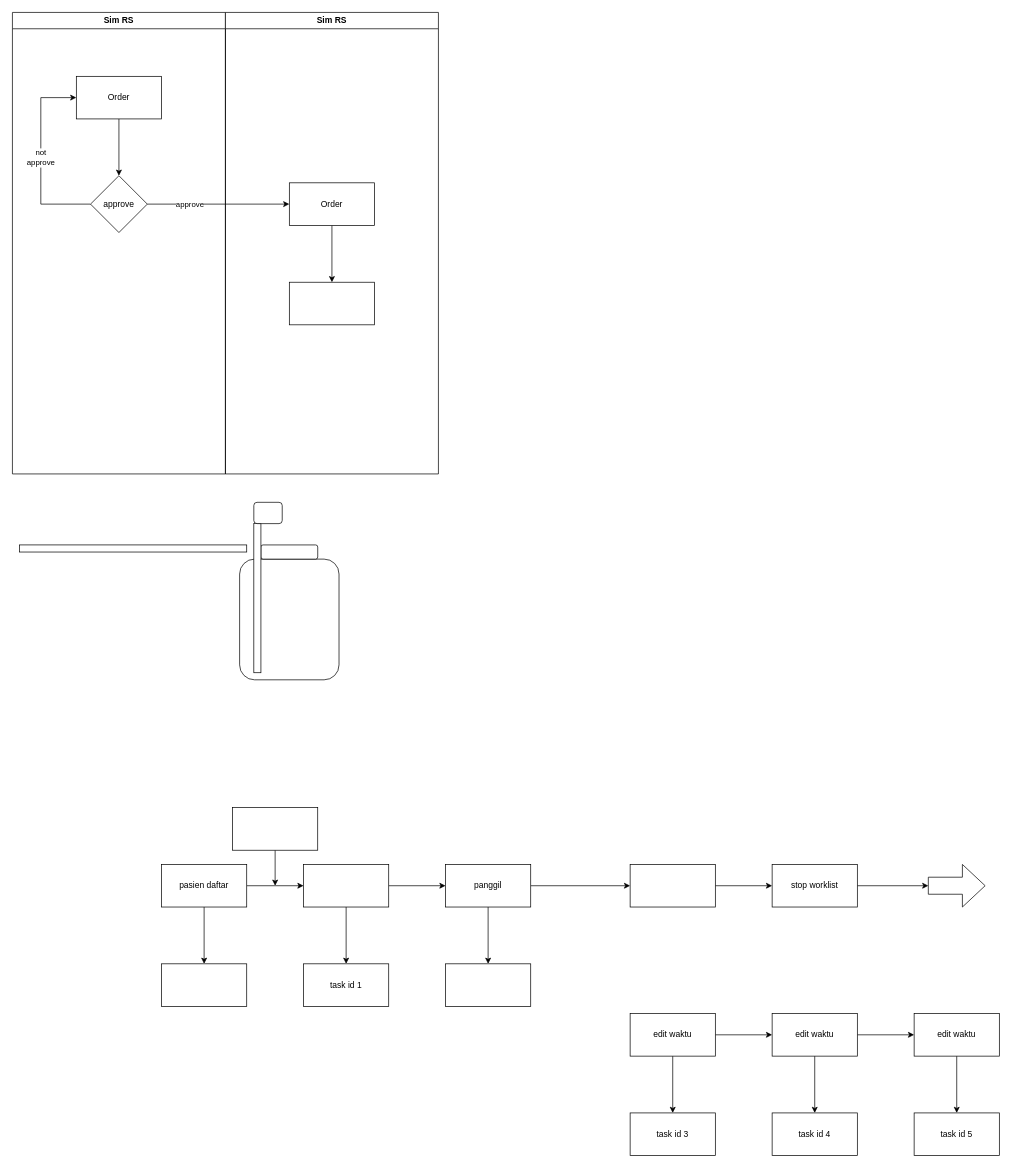
Some shapes in this 1012 by 1168 pixel diagram are drawn without their labels. Here are the shapes that lost their labels. From the top down, the box of each, then its label:
(289, 282, 375, 325): Hasil
(232, 807, 318, 850): penanda
(303, 864, 389, 907): ngambil no
(629, 864, 715, 907): play worklist
(928, 864, 985, 907): dst
(161, 963, 247, 1006): tambah antrean
(445, 963, 531, 1006): task id 2
